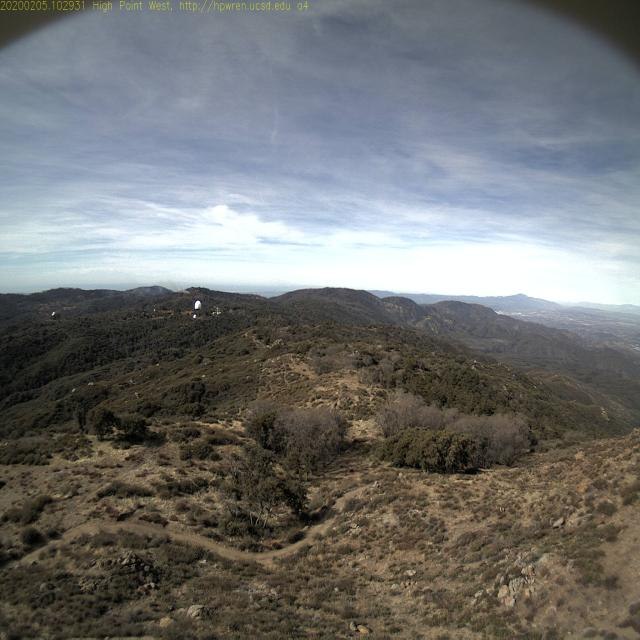smoke: (104, 278, 168, 304), (169, 278, 192, 297)
